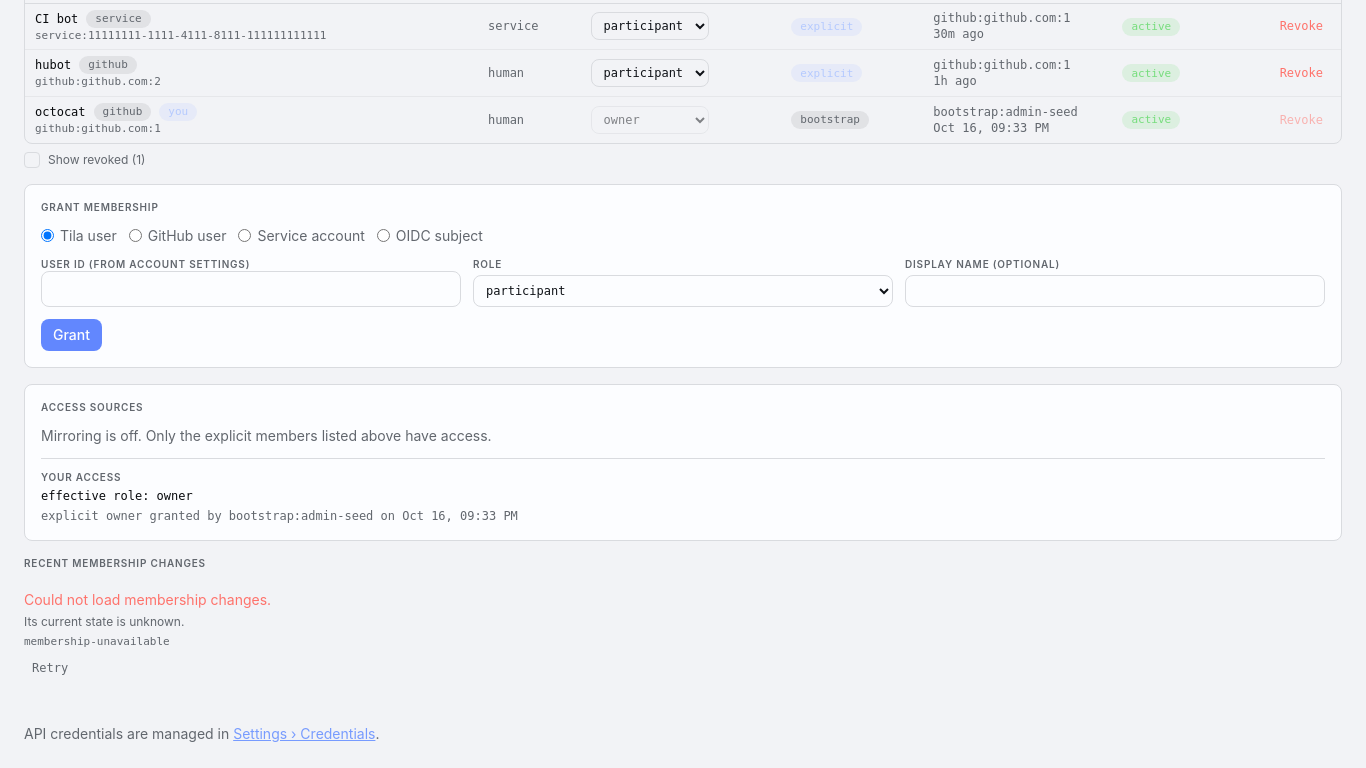
Test: SettingsPage failure states › a failed events request is an error, not 'no changes recorded'
The image size is (1366, 768).
(page scrolled)
Check: the message shows "Could not load membership changes.", box [24,591,271,680]
Check: the text "No changes recorded." is not shown
Click the button "Retry".
click(50, 668)  # box [24,656,76,680]
(page scrolled)
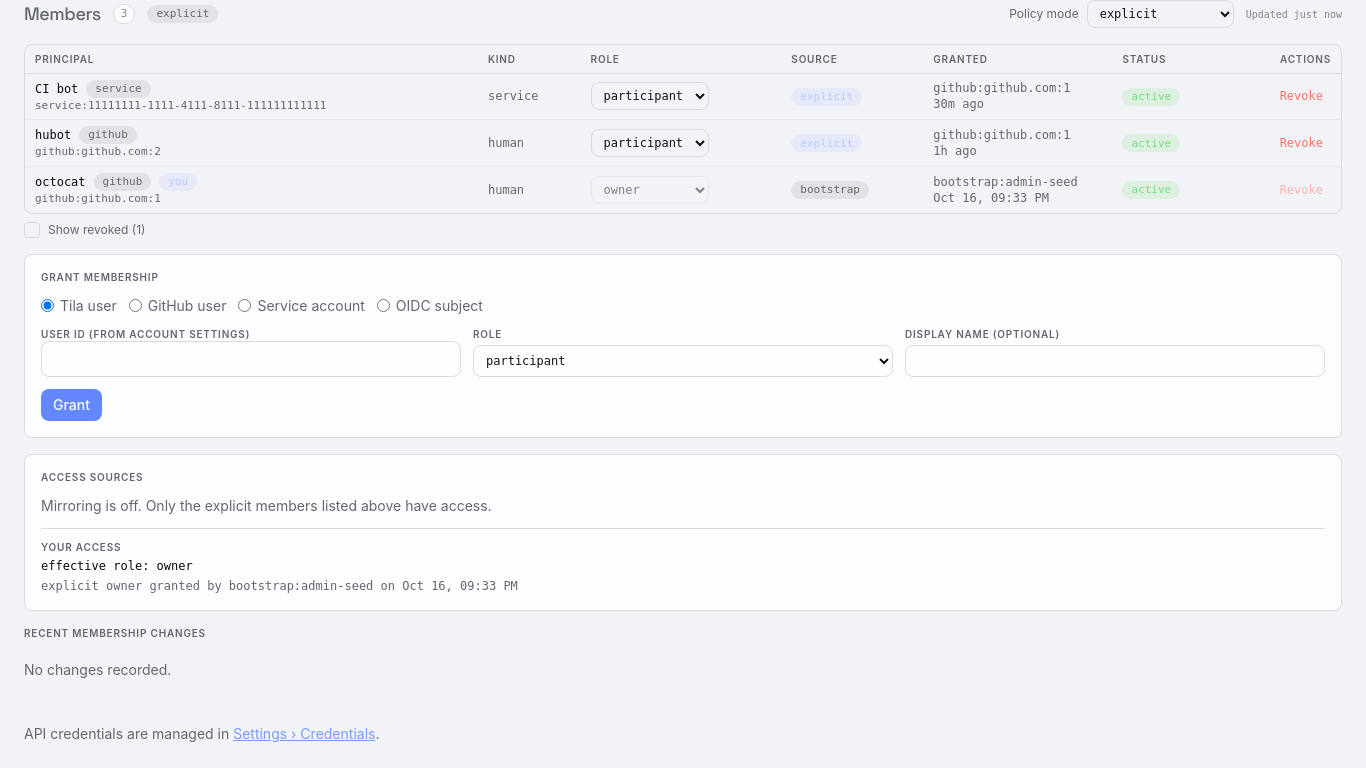
Check: the text "No changes recorded." is shown, box [24,661,171,678]
